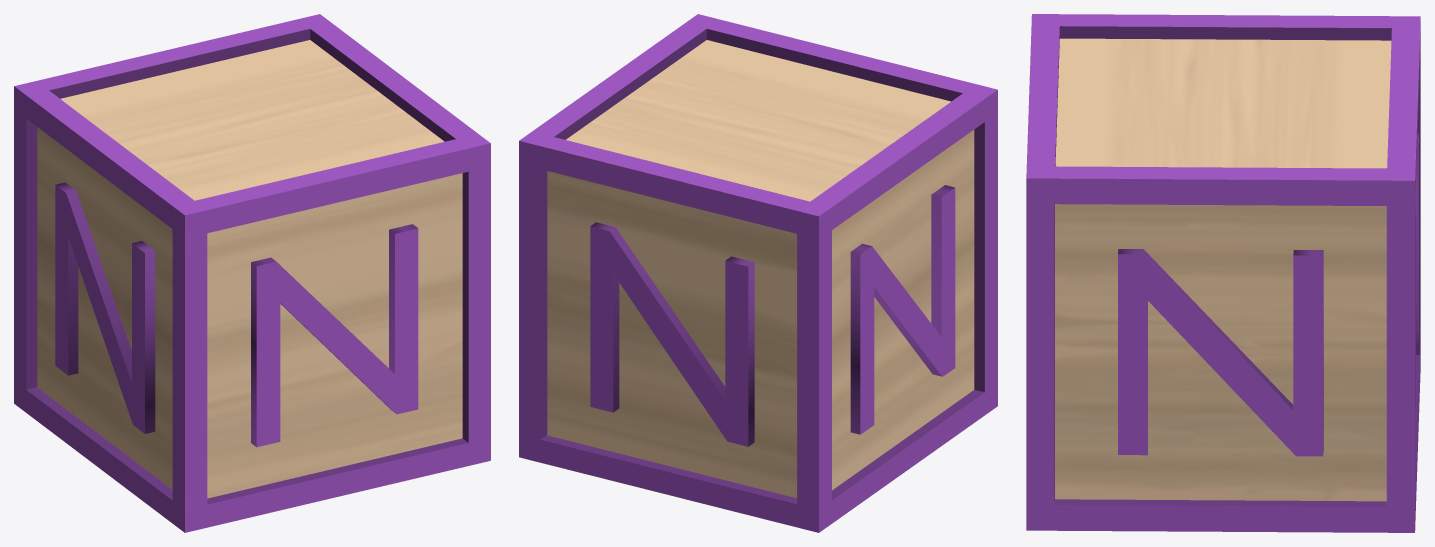
The picture shows the model from 3 angles, left to right: view 1: azimuth 30°, elevation 25°; view 2: azimuth 150°, elevation 25°; view 3: azimuth 270°, elevation 25°; orthographic projection. The views are drawn at different scales.
Parts seen in each view (by area): view 1: Cube.020; view 2: Cube.020; view 3: Cube.020.
Part boxes in pixels (x1=…): Cube.020: x1=14, y1=14, x2=490, y2=532; Cube.020: x1=519, y1=14, x2=997, y2=532; Cube.020: x1=1026, y1=14, x2=1420, y2=532.
Size of the model in its own units: 74.61 by 73.57 by 74.61.
Materials: 1 (1 with a texture image).
